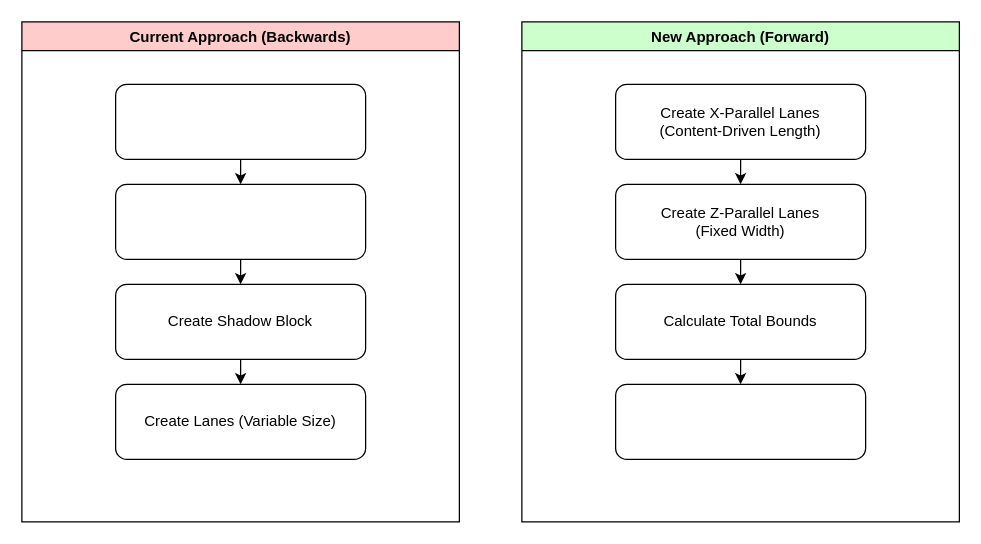
This 981x544 diagram has some shape labels left out. Each missing label, with the centre of its shape:
"Add Buffers to Bounds" belongs at point 240,221.
"Calculate Node Bounds" belongs at point 240,121.
"Create Shadow Block (Encompasses All)" belongs at point 740,421.
